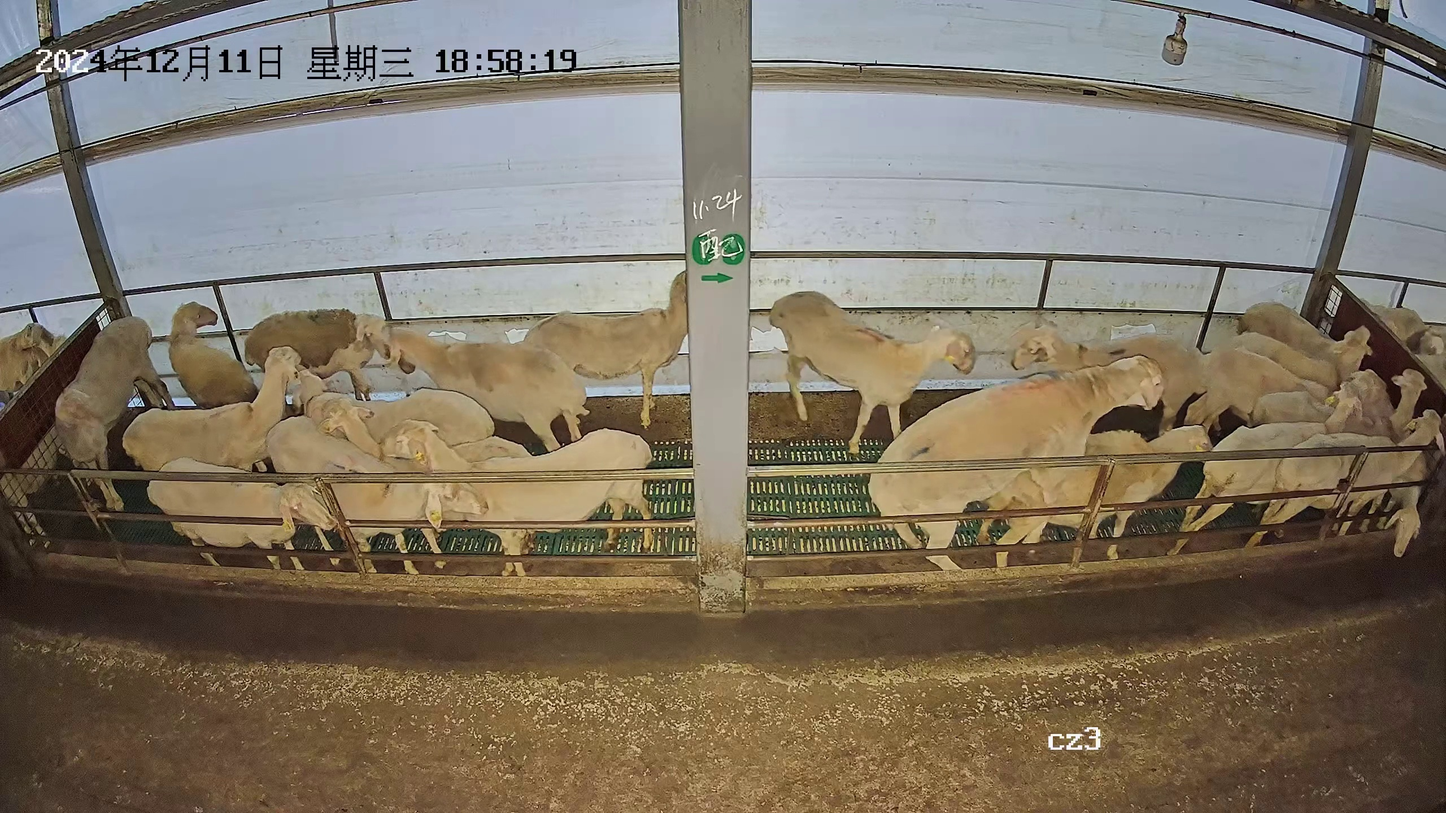Smounting: (865, 352, 1217, 569)
mounted: (975, 421, 1213, 566)
